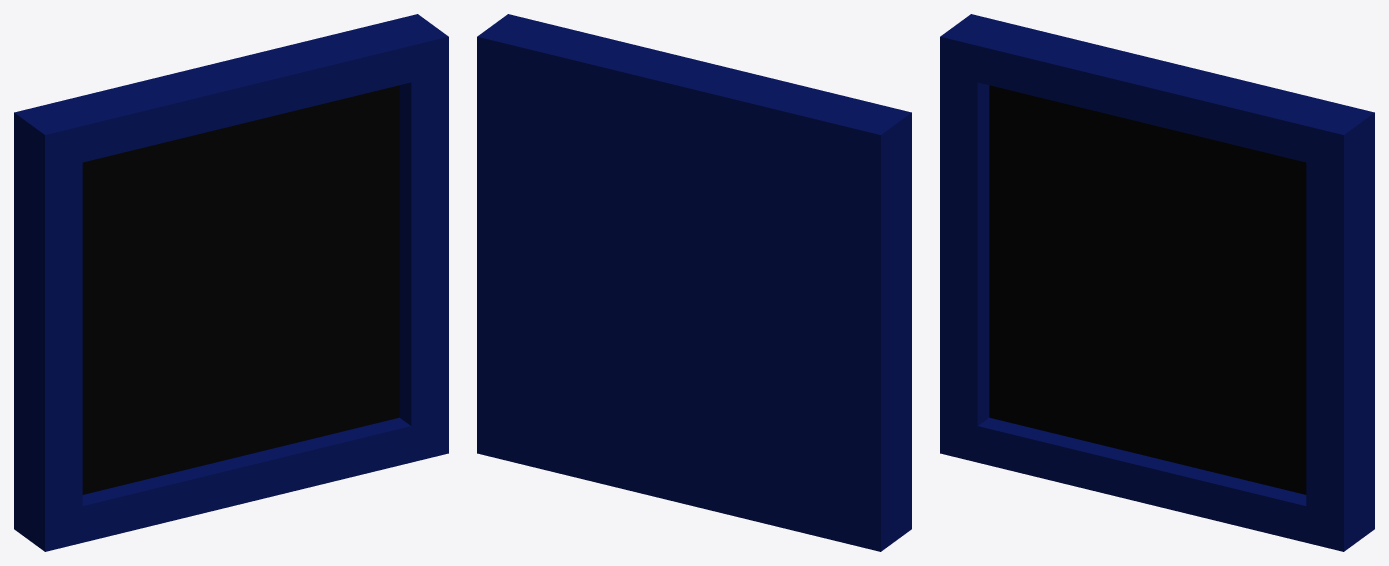
File: Window.fbx
3 renders of one model, left to right at view 1: azimuth 30°, elevation 25°; view 2: azimuth 150°, elevation 25°; view 3: azimuth 330°, elevation 25°, orthographic.
Parts seen in each view (by area): view 1: Window; view 2: Window; view 3: Window.
Part boxes in pixels (<box>): Window: <box>14,14,448,551</box>; Window: <box>477,14,911,551</box>; Window: <box>940,14,1374,551</box>.
Size of the model in its own units: 464 by 458 by 61.73.
